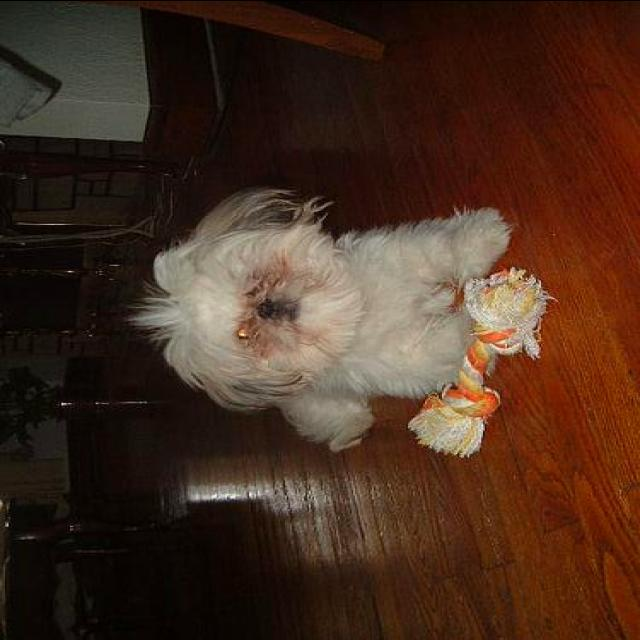shih_tzu: (130, 184, 514, 450)
